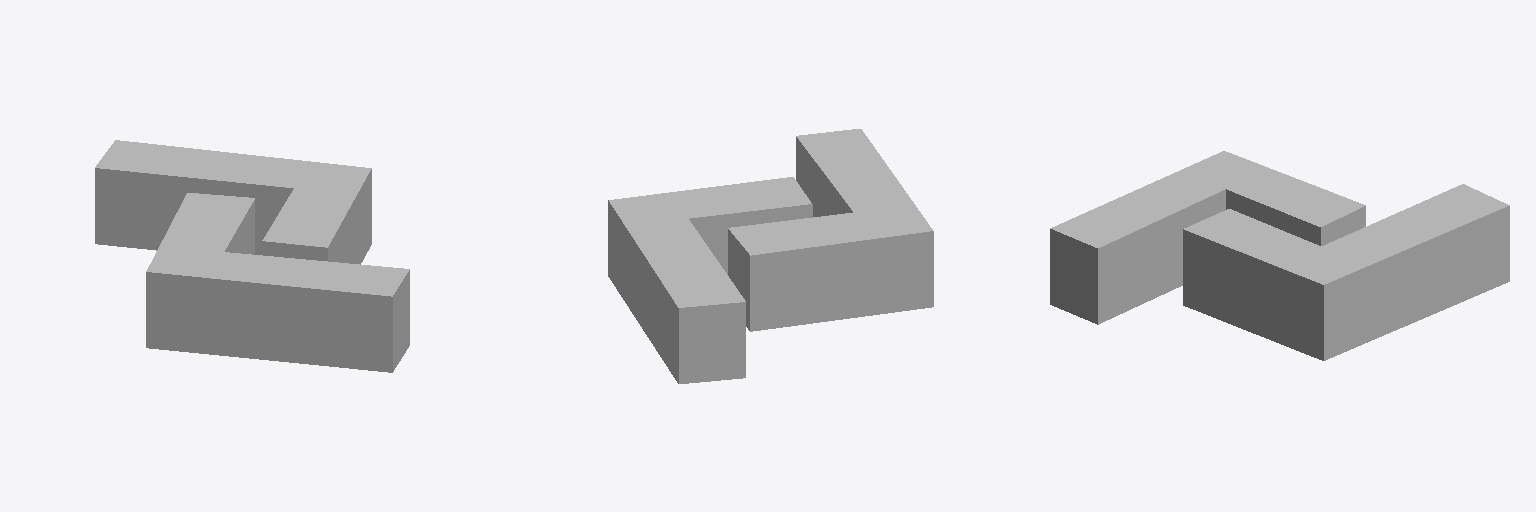
The model's file is Jera.obj.
The picture shows the model from 3 angles: view 1: azimuth 30°, elevation 25°; view 2: azimuth 150°, elevation 25°; view 3: azimuth 270°, elevation 25°; orthographic projection.
Visible parts, largest first — view 1: Jera; view 2: Jera; view 3: Jera.
Boxes of the visible parts, <box> form: Jera: <box>95,140,409,372</box>; Jera: <box>608,129,933,383</box>; Jera: <box>1050,151,1509,360</box>.
Bounding box in the file's own units: 0.3887 × 0.1028 × 0.5615.